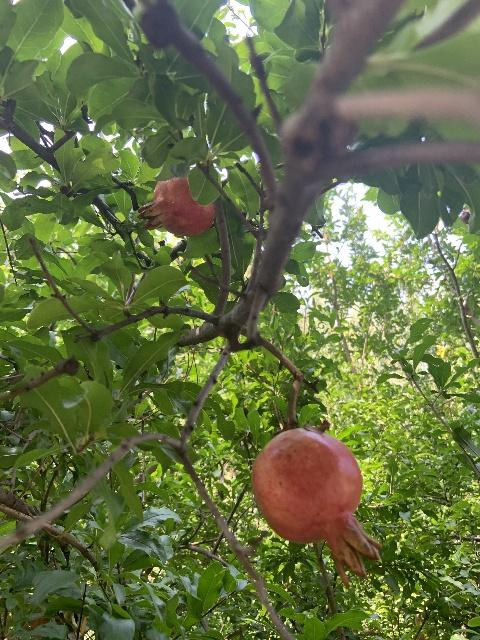ripe: (251, 428, 382, 586), (137, 176, 215, 236)
